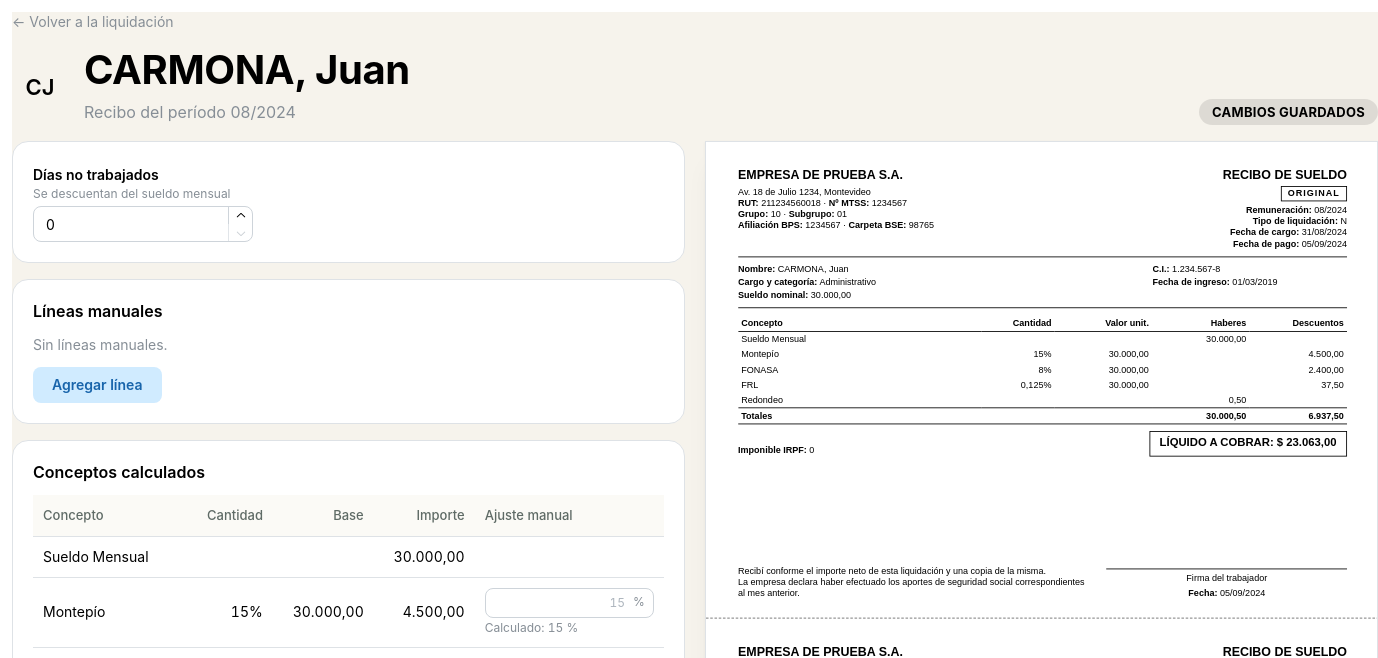
ReciboEditorPage › shows other save errors and keeps the edit
In the field named "Ajuste Montepío": (569, 603) [485, 588, 654, 618], type "10"
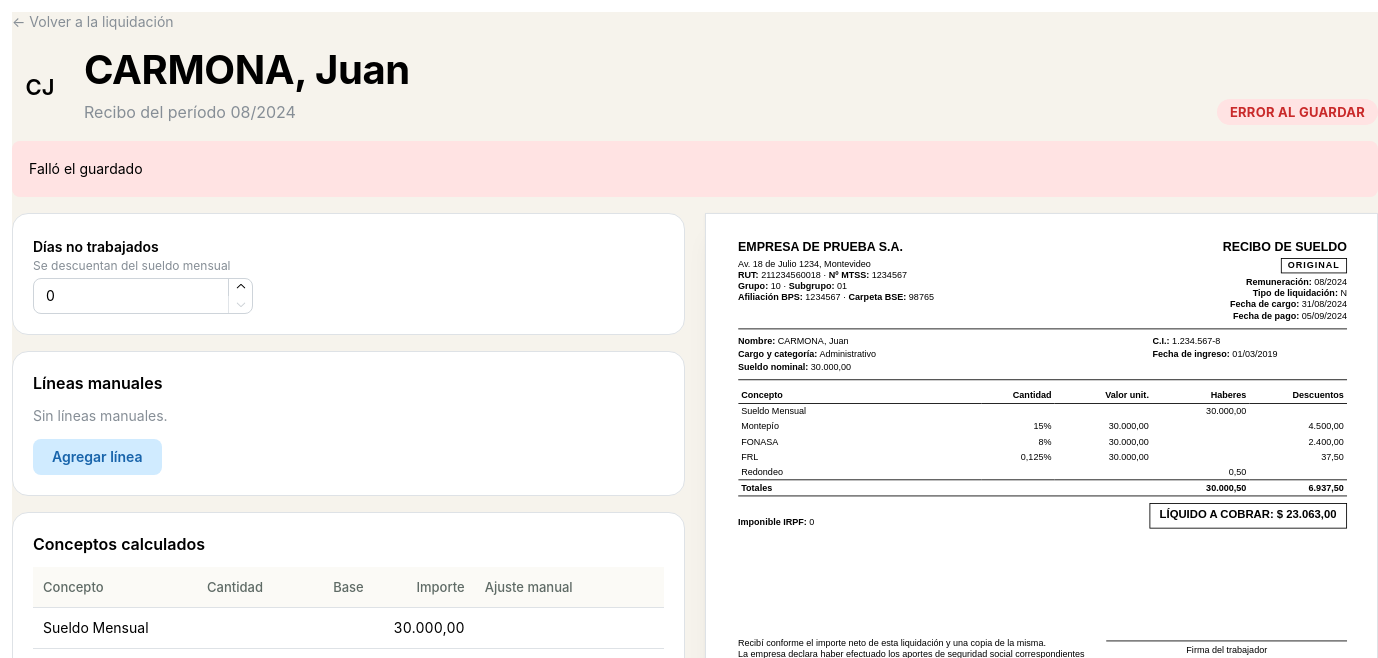
Result: the message reads "Falló el guardado" at [29, 160, 143, 177]
Result: the element with test id "estado-guardado" reads "Error al guardar" at [1230, 104, 1365, 120]
